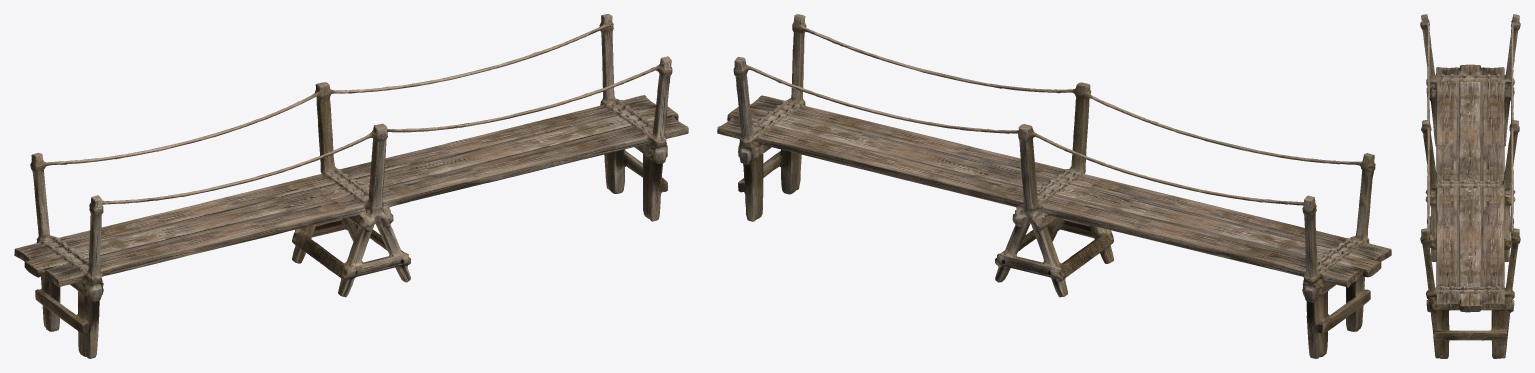
The model's file is roof-walk-board-long.glb.
3 renders of one model, left to right at view 1: azimuth 30°, elevation 25°; view 2: azimuth 150°, elevation 25°; view 3: azimuth 270°, elevation 25°, orthographic. The views are drawn at different scales.
Visible parts, largest first — view 1: roof-walk-board-long_mesh; view 2: roof-walk-board-long_mesh; view 3: roof-walk-board-long_mesh.
Boxes of the visible parts, x1,y1,x2,y2 form: roof-walk-board-long_mesh: (14, 14, 688, 358); roof-walk-board-long_mesh: (717, 14, 1391, 358); roof-walk-board-long_mesh: (1420, 14, 1520, 358).
Size of the model in its own units: 1.9 by 0.4784 by 0.3347.
1 material, 1 textured.
